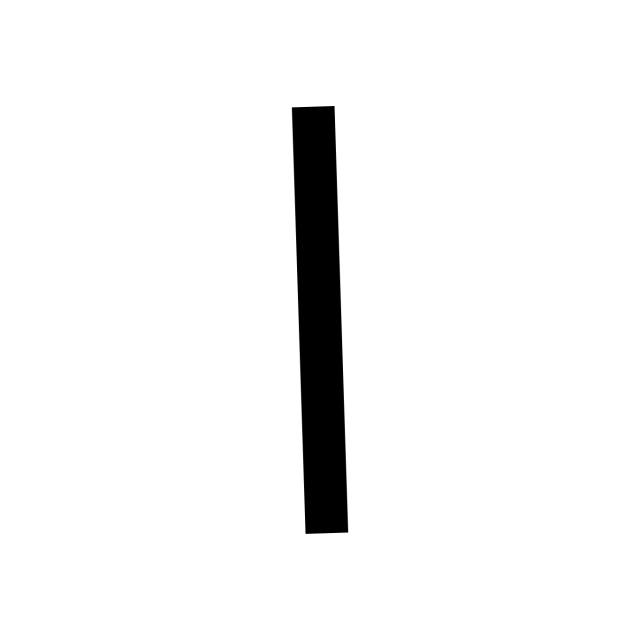line: (291, 106, 347, 533)
